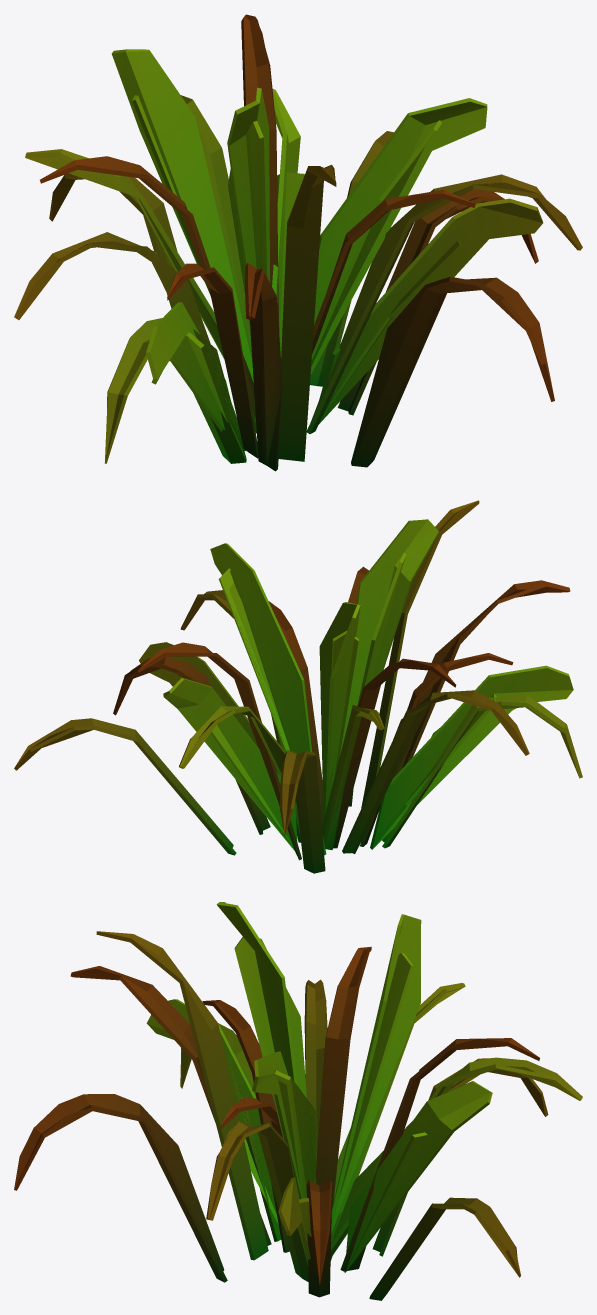
File: glass3.fbx
3 views of the same model, one above another, from view 1: azimuth 30°, elevation 25°; view 2: azimuth 150°, elevation 25°; view 3: azimuth 270°, elevation 25° (orthographic). The views are drawn at different scales.
Visible parts, largest first — view 1: SM_Bush_02; view 2: SM_Bush_02; view 3: SM_Bush_02.
Boxes of the visible parts, <box> form: SM_Bush_02: <box>14,14,582,471</box>; SM_Bush_02: <box>14,500,582,873</box>; SM_Bush_02: <box>14,902,582,1300</box>.
Size of the model in its own units: 151 by 108 by 165.
